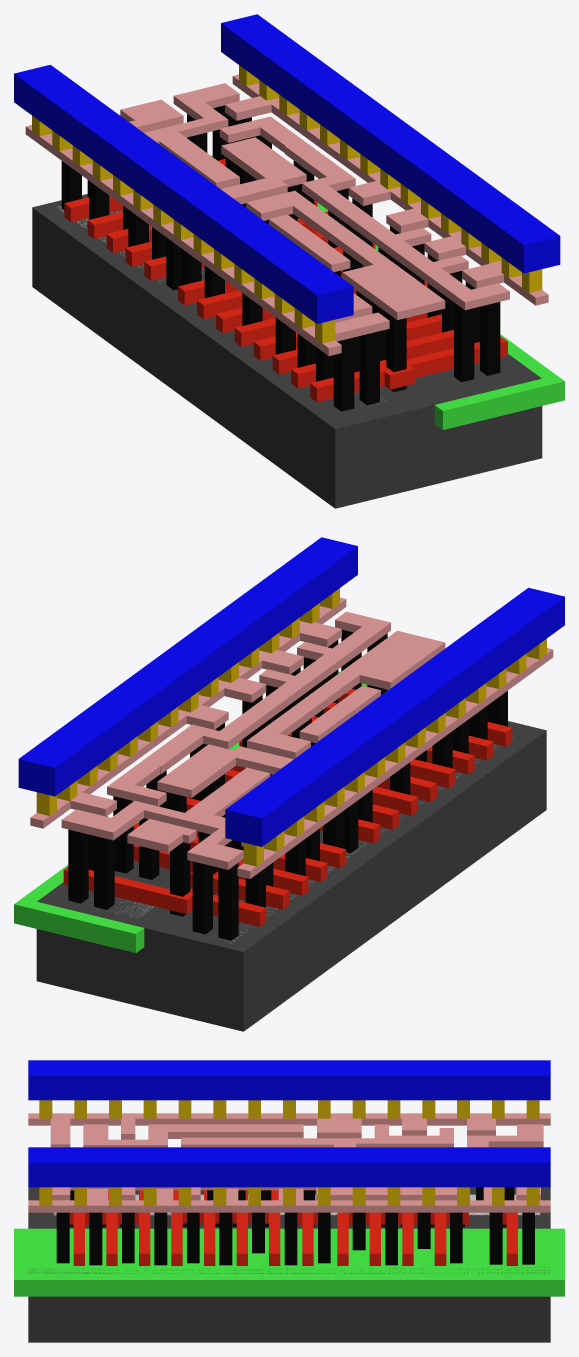
The model's file is sky130_fd_sc_hd__a21boi_4.obj.
The picture shows the model from 3 angles, top to bottom: view 1: azimuth 30°, elevation 25°; view 2: azimuth 150°, elevation 25°; view 3: azimuth 270°, elevation 25°; orthographic projection. The views are drawn at different scales.
Parts seen in each view (by area): view 1: subs, metal1, li, licon, poly, mcon, nwell; view 2: subs, metal1, li, licon, poly, mcon, nwell; view 3: metal1, subs, nwell, li, licon, poly, mcon.
Part boxes in pixels (x1,y1,x2,y2): subs: (32, 194, 542, 508); metal1: (14, 14, 560, 323); li: (25, 74, 548, 355); licon: (61, 105, 500, 411); poly: (64, 158, 507, 402); mcon: (32, 65, 542, 343); nwell: (211, 155, 564, 429); subs: (36, 685, 546, 1031); metal1: (18, 537, 564, 846); li: (30, 597, 553, 878); licon: (68, 629, 507, 940); poly: (63, 688, 512, 926); mcon: (36, 588, 546, 866); nwell: (14, 671, 388, 952); metal1: (28, 1060, 550, 1187); subs: (28, 1187, 550, 1342); nwell: (14, 1228, 564, 1296); li: (28, 1113, 550, 1212); licon: (56, 1187, 534, 1265); poly: (69, 1190, 517, 1265); mcon: (39, 1100, 539, 1205).
Bounding box in the file's own units: 3.2 × 2.74 × 7.28.
